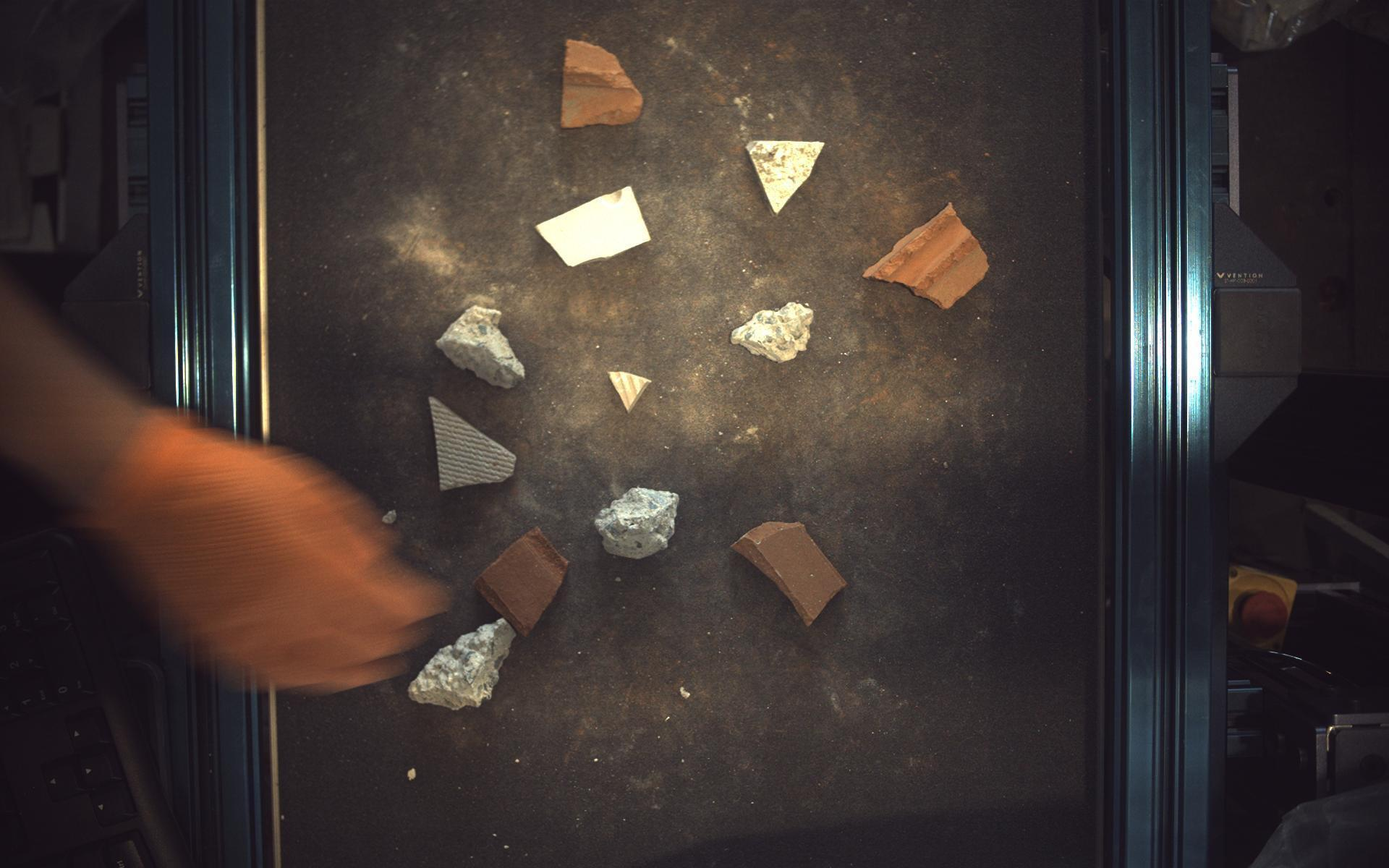brick: (865, 203, 991, 308), (733, 523, 849, 626), (475, 528, 569, 637), (561, 38, 644, 127)
concrete: (408, 618, 516, 711), (436, 305, 524, 388), (595, 488, 680, 560), (733, 302, 815, 362)
tile: (537, 185, 651, 266), (428, 396, 517, 491), (747, 139, 824, 213), (610, 371, 652, 412)
